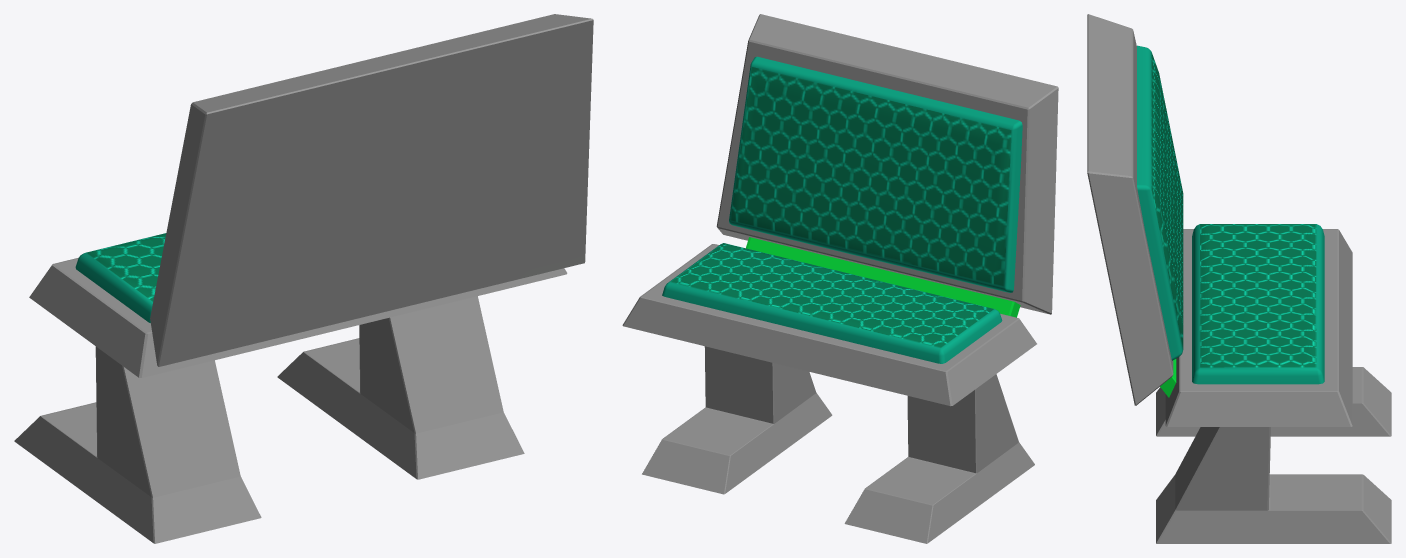
The model's file is SM_Chair_02.fbx.
3 views of the same model, side by side, from view 1: azimuth 30°, elevation 25°; view 2: azimuth 150°, elevation 25°; view 3: azimuth 270°, elevation 25° (orthographic). The views are drawn at different scales.
Parts seen in each view (by area): view 1: SM_Chair_02; view 2: SM_Chair_02; view 3: SM_Chair_02.
Part boxes in pixels (<box>): SM_Chair_02: <box>14,14,593,543</box>; SM_Chair_02: <box>622,14,1058,543</box>; SM_Chair_02: <box>1087,14,1391,543</box>.
Bounding box in the file's own units: 134 × 98.15 × 136.
